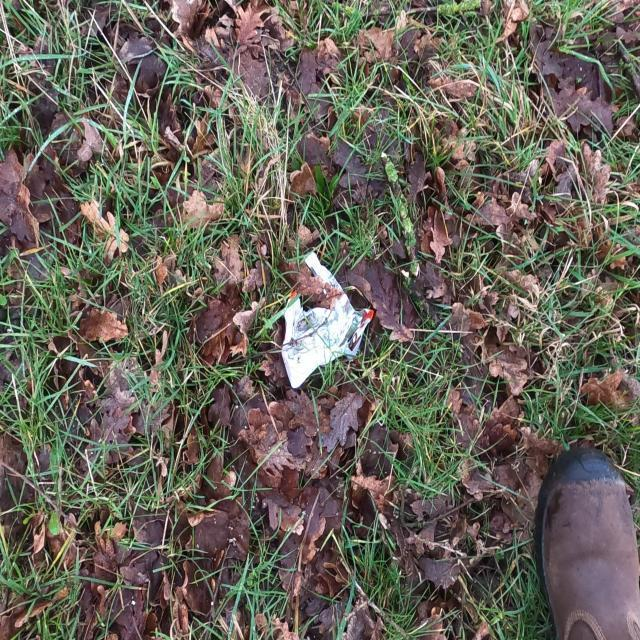Plastic: (281, 250, 374, 390)
